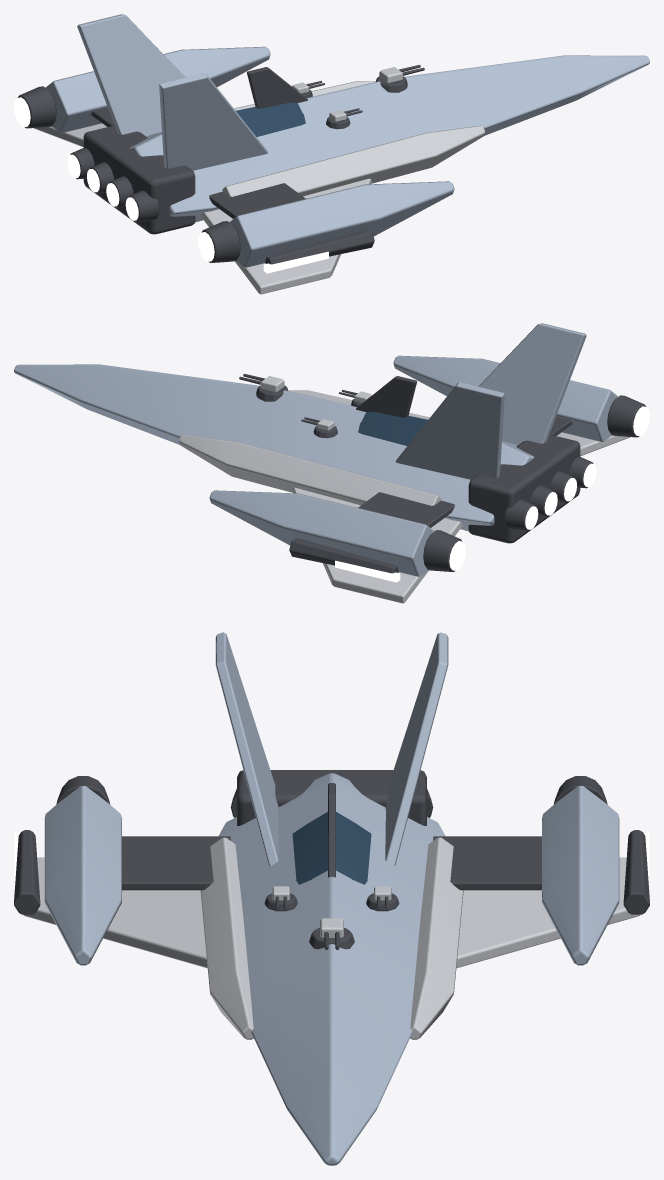
Rendered from angular_enormous.glb.
3 renders of one model, top to bottom at view 1: azimuth 30°, elevation 25°; view 2: azimuth 150°, elevation 25°; view 3: azimuth 270°, elevation 25°, orthographic. The views are drawn at different scales.
Parts seen in each view (by area): view 1: angular_enormous; view 2: angular_enormous; view 3: angular_enormous.
Part boxes in pixels (bbox=[...]): angular_enormous: bbox=[14, 14, 649, 294]; angular_enormous: bbox=[14, 323, 649, 603]; angular_enormous: bbox=[14, 632, 649, 1165].
Bounding box in the file's own units: 2.5 × 0.733 × 1.87.
